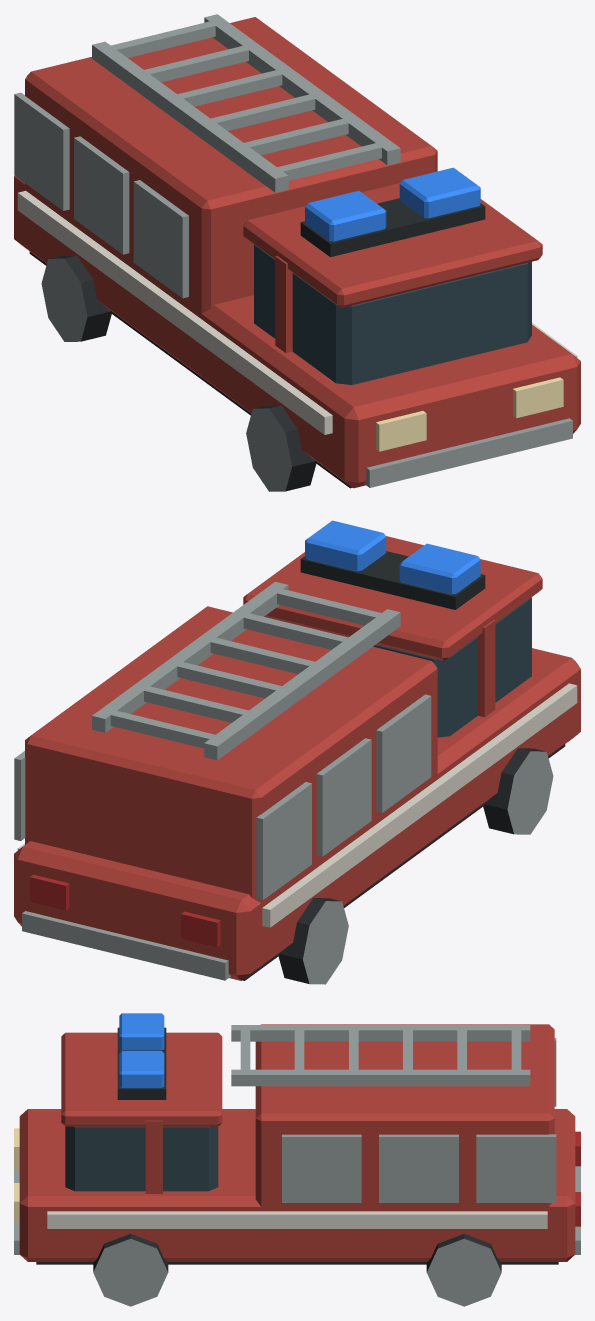
Rendered from VEH_FIRE_ENGINE.glb.
3 renders of one model, top to bottom at view 1: azimuth 30°, elevation 25°; view 2: azimuth 150°, elevation 25°; view 3: azimuth 270°, elevation 25°, orthographic. The views are drawn at different scales.
Parts seen in each view (by area): view 1: Body, Wheel_FL, Wheel_RL, Beacon_L, Beacon_R; view 2: Body, Wheel_RL, Wheel_FL, Beacon_L, Beacon_R; view 3: Body, Wheel_FR, Wheel_RR, Beacon_L, Beacon_R.
Boxes of the visible parts, x1=… form: Body: x1=14, y1=14, x2=580, y2=488; Wheel_FL: x1=246, y1=405, x2=316, y2=491; Wheel_RL: x1=41, y1=255, x2=111, y2=341; Beacon_L: x1=305, y1=190, x2=386, y2=241; Beacon_R: x1=399, y1=167, x2=480, y2=218; Body: x1=14, y1=536, x2=580, y2=980; Wheel_RL: x1=278, y1=898, x2=348, y2=984; Wheel_FL: x1=483, y1=748, x2=553, y2=834; Beacon_L: x1=399, y1=543, x2=480, y2=594; Beacon_R: x1=305, y1=520, x2=386, y2=571; Body: x1=14, y1=1024, x2=580, y2=1264; Wheel_FR: x1=93, y1=1233, x2=168, y2=1306; Wheel_RR: x1=426, y1=1233, x2=501, y2=1306; Beacon_L: x1=119, y1=1013, x2=164, y2=1050; Beacon_R: x1=119, y1=1051, x2=164, y2=1088.
Bounding box in the file's own units: 0.354 × 0.3375 × 0.816.
